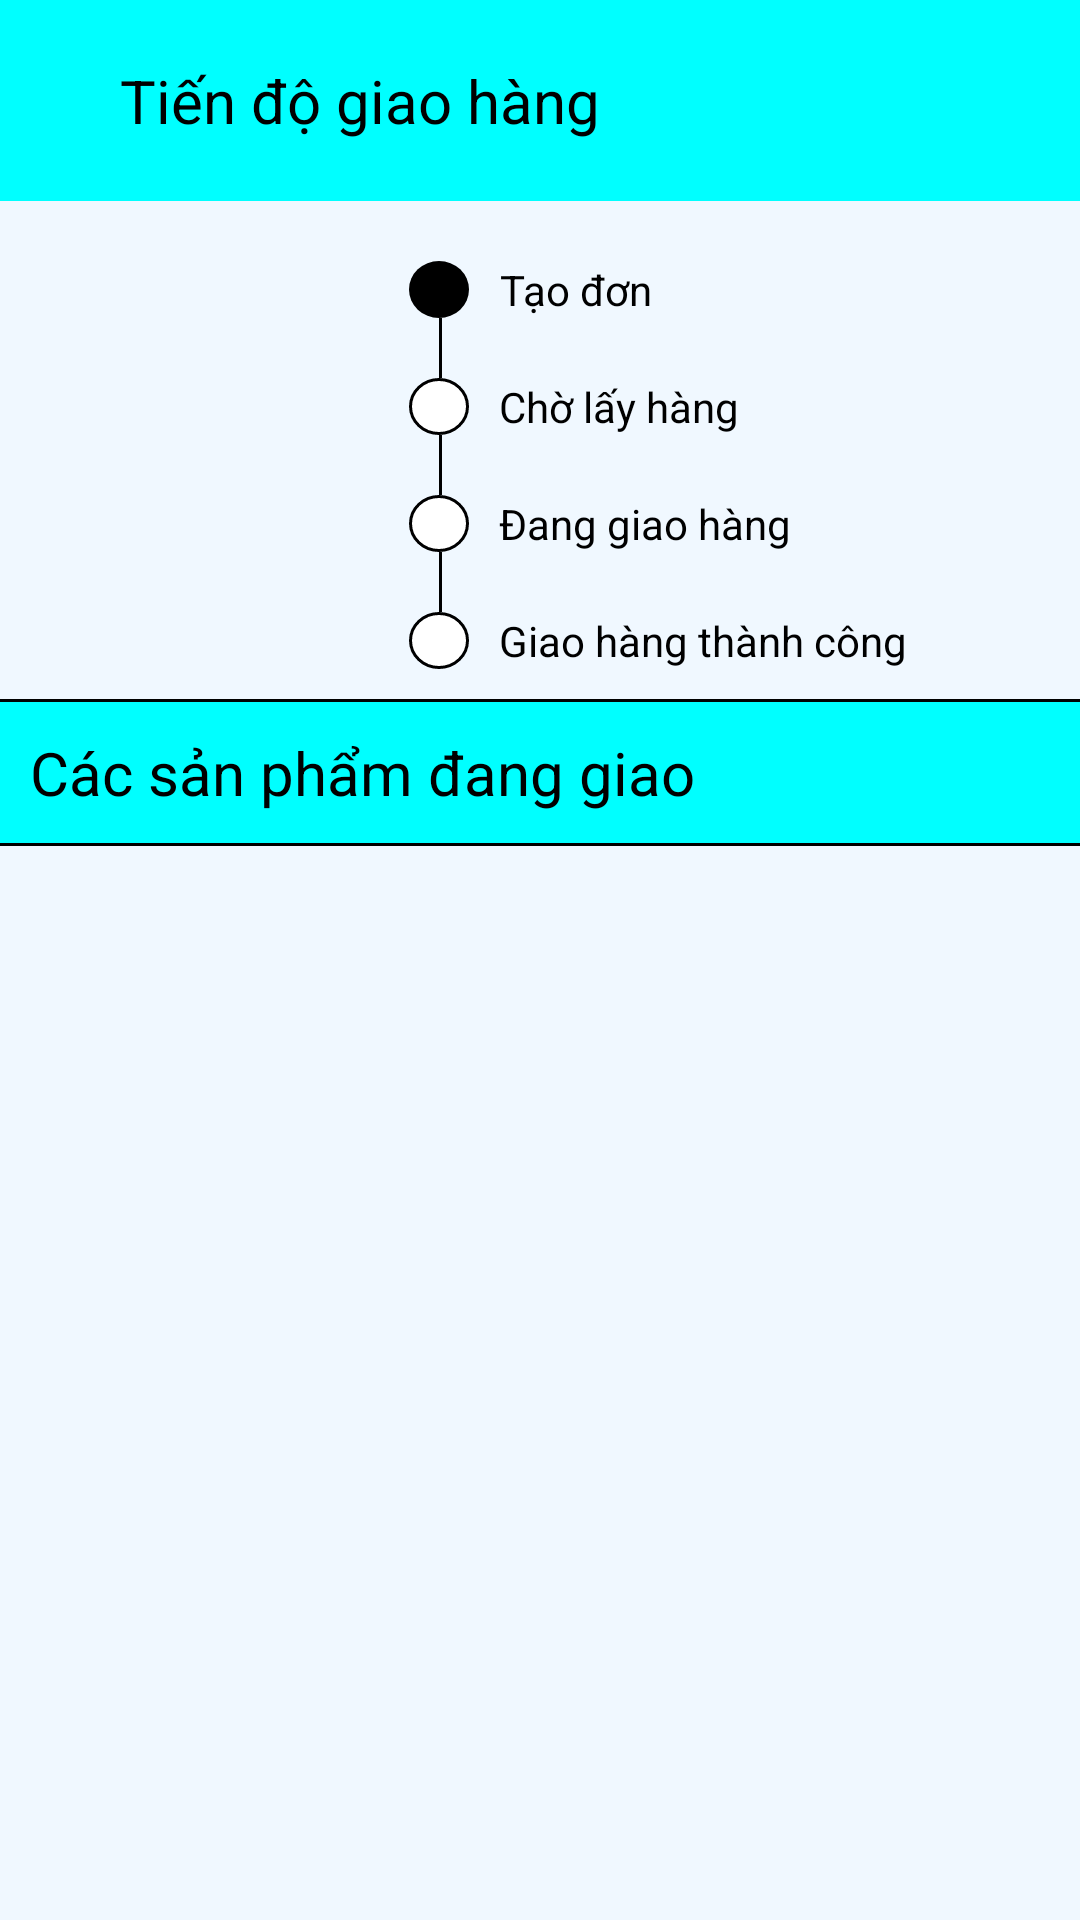

Where icons sit on this 1080*1920 app screen, as bbox=[x1, y1, x2, y2]:
smallcircle: bbox=[409, 261, 469, 318], bbox=[409, 378, 469, 435], bbox=[409, 495, 469, 552], bbox=[409, 612, 469, 669]
